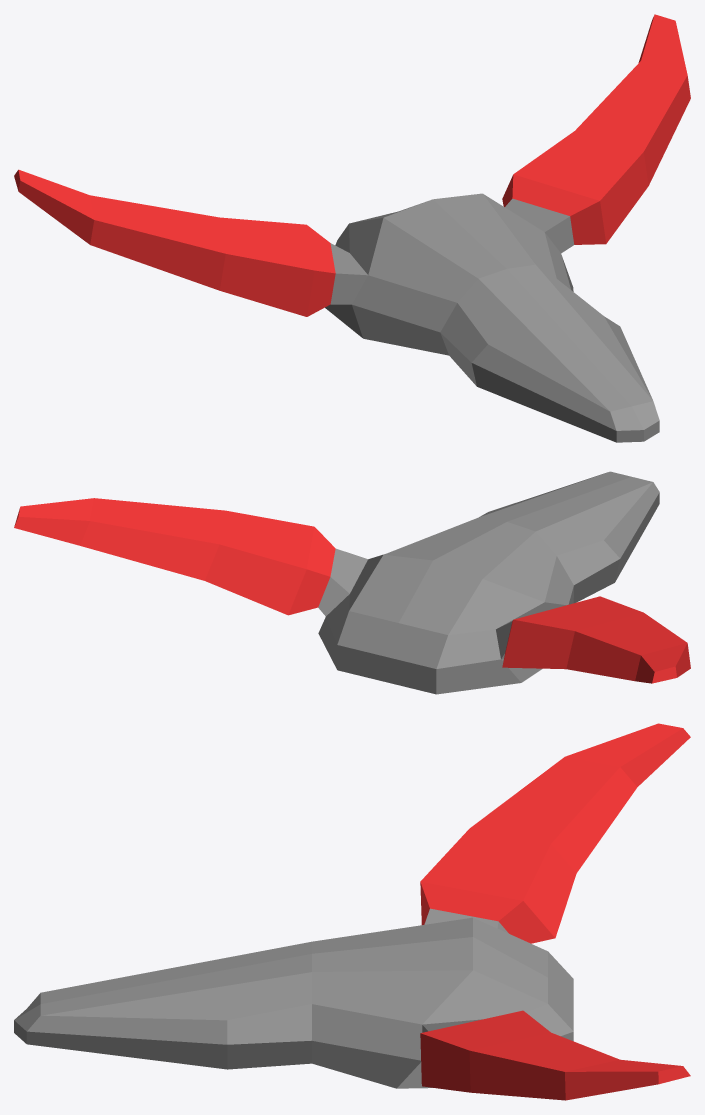
Rendered from Crâne.FBX.
3 views of the same model, one above another, from view 1: azimuth 30°, elevation 25°; view 2: azimuth 150°, elevation 25°; view 3: azimuth 270°, elevation 25° (orthographic). The views are drawn at different scales.
Visible parts, largest first — view 1: Box001; view 2: Box001; view 3: Box001.
Part boxes in pixels (box(x1,y1,x2,y2)): Box001: box(14, 14, 690, 442); Box001: box(14, 471, 690, 694); Box001: box(14, 723, 690, 1100).
Bounding box in the file's own units: 64.22 × 12.6 × 52.52.
